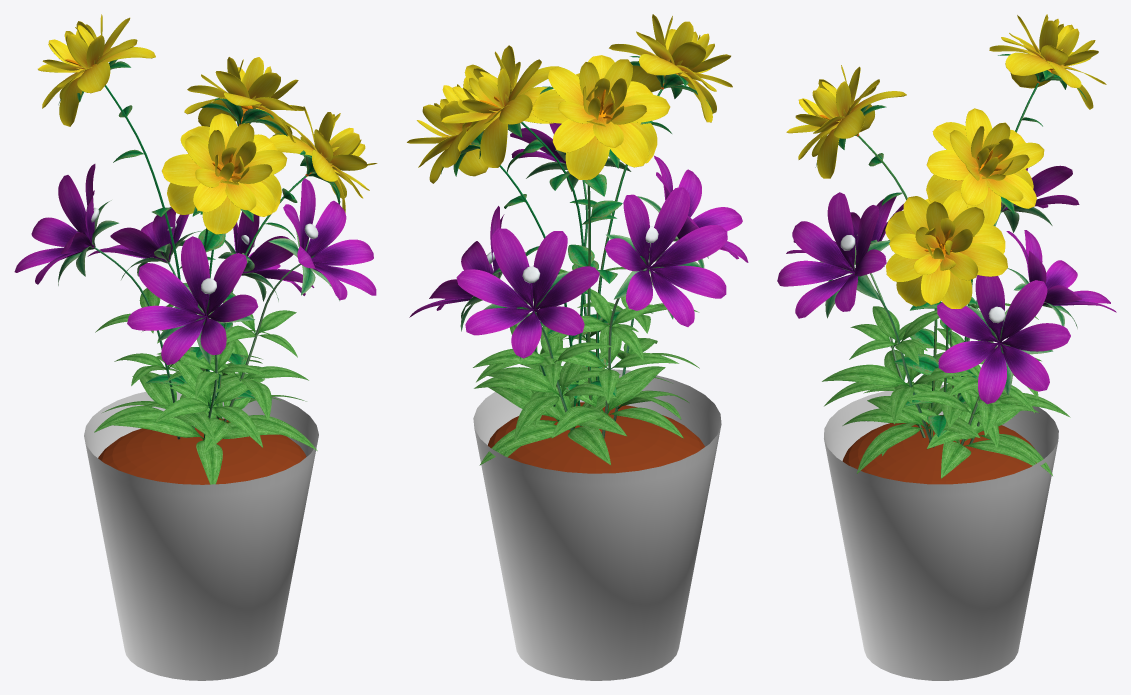
File: Room3-Flower10(Petunias).glb
The picture shows the model from 3 angles, left to right: view 1: azimuth 30°, elevation 25°; view 2: azimuth 150°, elevation 25°; view 3: azimuth 270°, elevation 25°; orthographic projection. The views are drawn at different scales.
Parts seen in each view (by area): view 1: Petunias; view 2: Petunias; view 3: Petunias.
Part boxes in pixels (box(x1,y1,x2,y2)): Petunias: box(14, 14, 377, 680); Petunias: box(407, 14, 748, 680); Petunias: box(777, 14, 1116, 680).
Bounding box in the file's own units: 2.09 × 3.9 × 1.98.
9 materials, 7 textured.
